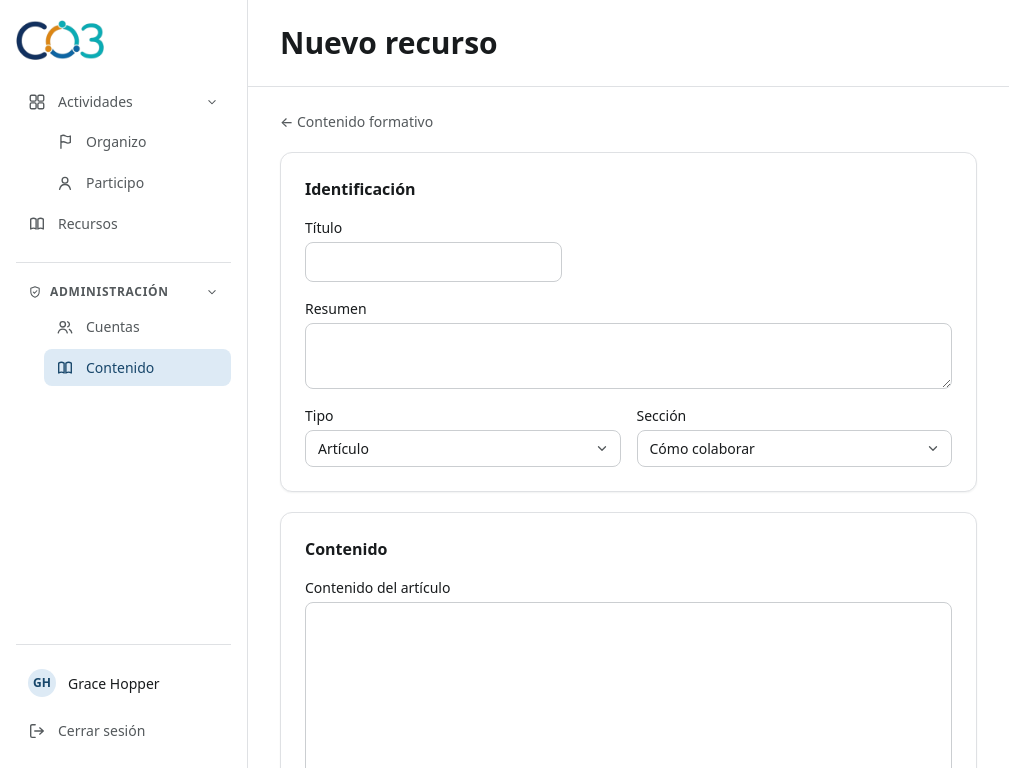
PantallaEditarRecurso › un borrador nuevo vuelve a la lista avisando que todavía no es público
In the field labelled "Título": (434, 262) [305,242,562,282], type "Nuevo"
(page scrolled)
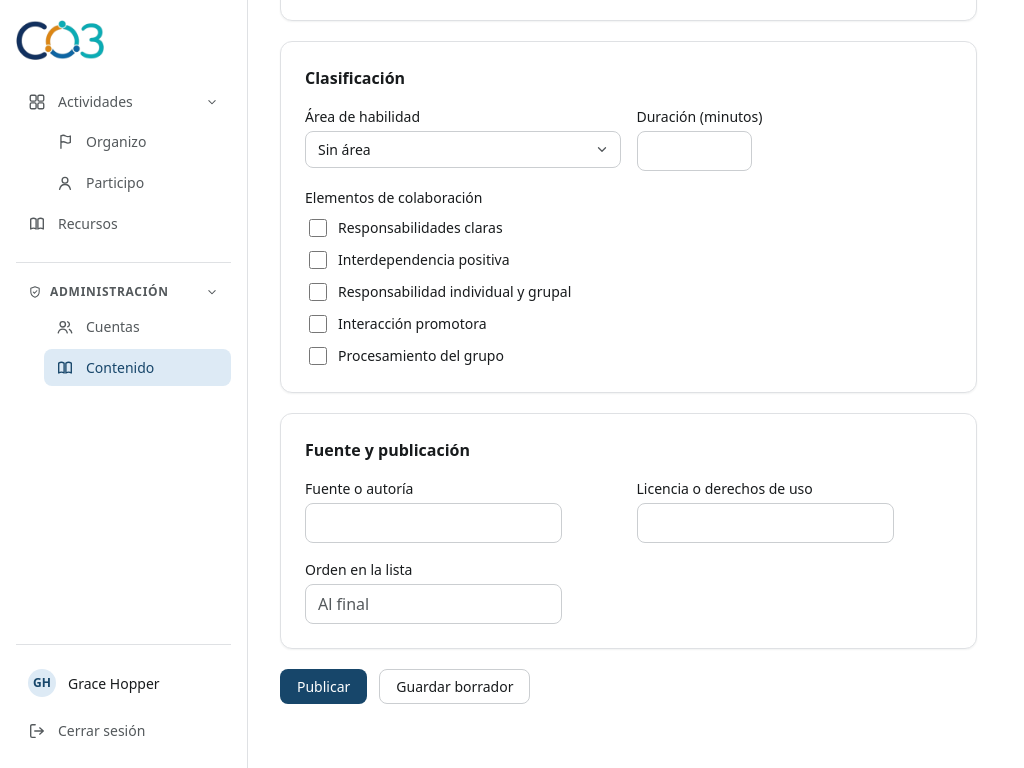
Click the button "Guardar borrador": (455, 686) [379,668,530,704]
(page scrolled)
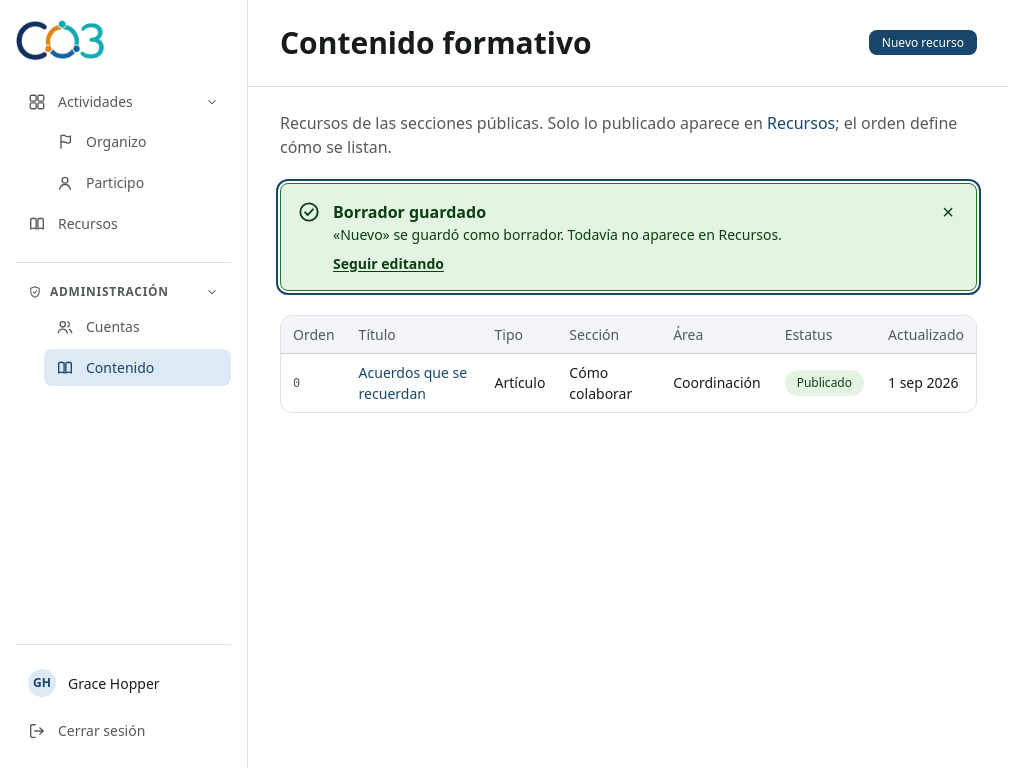
Now the text "Borrador guardado" is shown, box [333,200,486,222]
Now the text "Todavía no aparece en Recursos" is shown, box [333,224,782,244]
